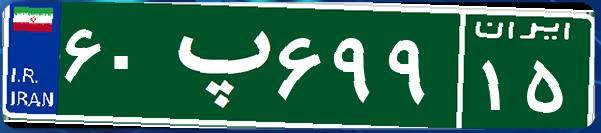0: (110, 28, 158, 105)
1: (475, 38, 525, 113)
5: (525, 38, 570, 115)
6: (273, 28, 330, 110), (57, 26, 110, 107)
9: (385, 28, 445, 110), (330, 28, 385, 110)
پ: (158, 15, 273, 115)
